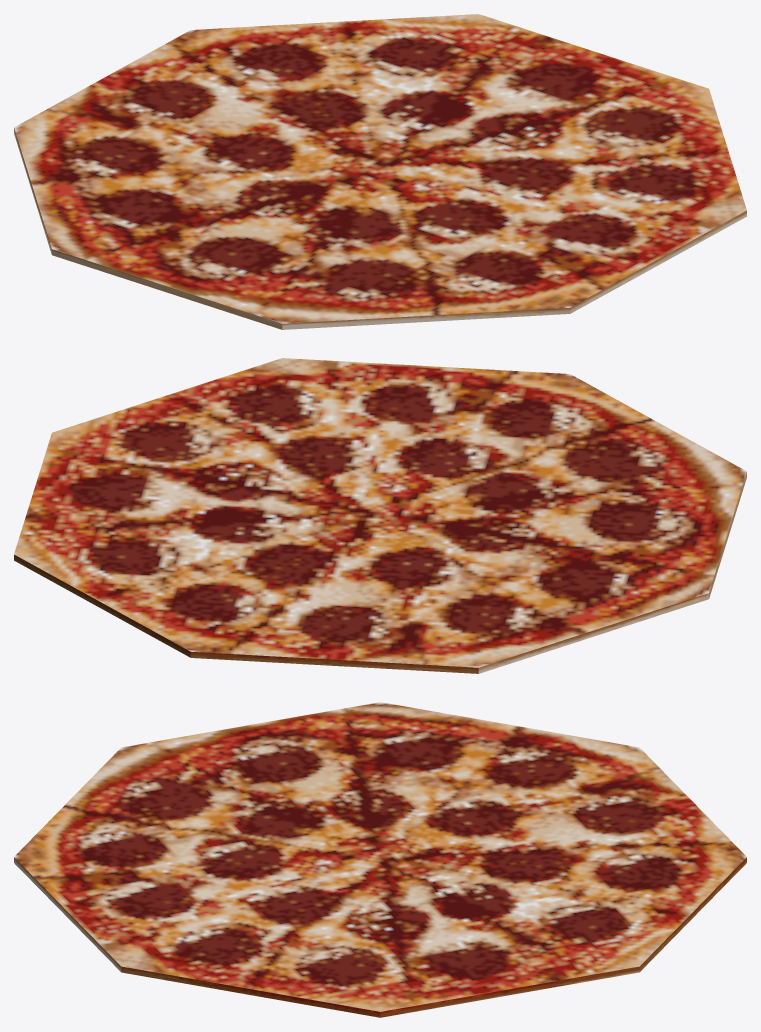
File: SM_Pizza.fbx
3 renders of one model, top to bottom at view 1: azimuth 30°, elevation 25°; view 2: azimuth 150°, elevation 25°; view 3: azimuth 270°, elevation 25°, orthographic. The views are drawn at different scales.
Visible parts, largest first — view 1: Cylinder; view 2: Cylinder; view 3: Cylinder.
Part boxes in pixels (left/top/right/bottom): Cylinder: left=14, top=14, right=746, bottom=329; Cylinder: left=14, top=358, right=746, bottom=673; Cylinder: left=14, top=702, right=746, bottom=1017.
Size of the model in its own units: 30 by 0.2691 by 30.
